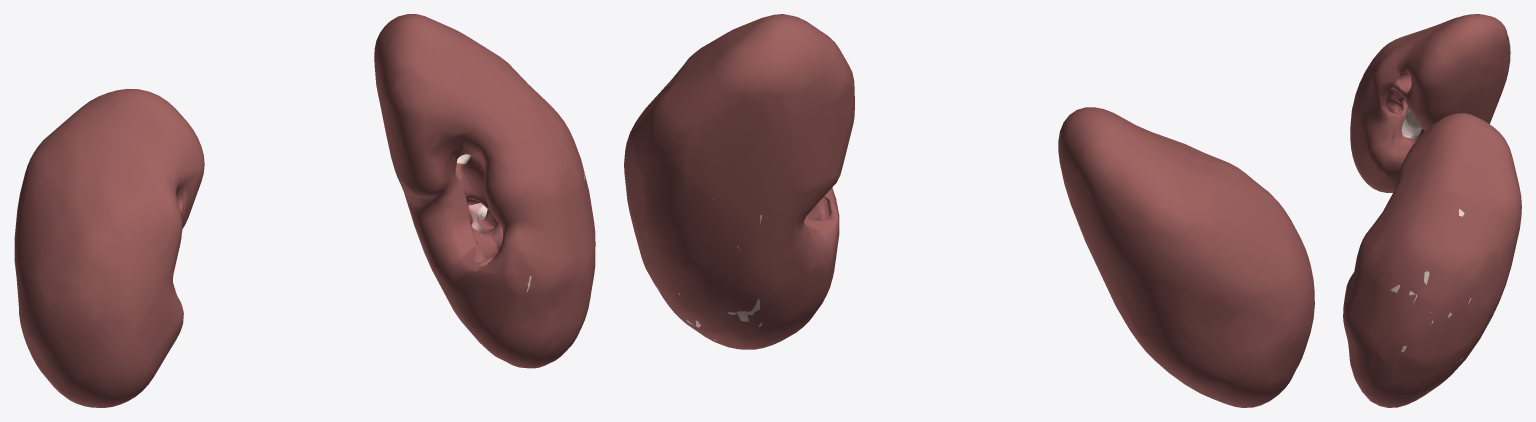
Rendered from kidneys.glb.
3 views of the same model, side by side, from view 1: azimuth 30°, elevation 25°; view 2: azimuth 150°, elevation 25°; view 3: azimuth 270°, elevation 25° (orthographic). The views are drawn at different scales.
Visible parts, largest first — view 1: VH_F_kidney_capsule_L, VH_F_kidney_capsule_R, VH_F_hilum_of_kidney_L; view 2: VH_F_kidney_capsule_L, VH_F_kidney_capsule_R; view 3: VH_F_kidney_capsule_L, VH_F_kidney_capsule_R, VH_F_hilum_of_kidney_R, VH_F_renal_column_R, VH_F_outer_cortex_of_kidney_L.
Boxes of the visible parts, <box> form: VH_F_kidney_capsule_L: <box>374,14,595,368</box>; VH_F_kidney_capsule_R: <box>14,89,204,407</box>; VH_F_hilum_of_kidney_L: <box>451,150,502,266</box>; VH_F_kidney_capsule_L: <box>624,14,854,349</box>; VH_F_kidney_capsule_R: <box>1058,107,1314,407</box>; VH_F_kidney_capsule_L: <box>1343,113,1521,407</box>; VH_F_kidney_capsule_R: <box>1350,14,1510,192</box>; VH_F_hilum_of_kidney_R: <box>1382,71,1423,154</box>; VH_F_renal_column_R: <box>1401,108,1421,138</box>; VH_F_outer_cortex_of_kidney_L: <box>1391,209,1471,392</box>.
Size of the model in its own units: 0.2219 by 0.1249 by 0.0776.
